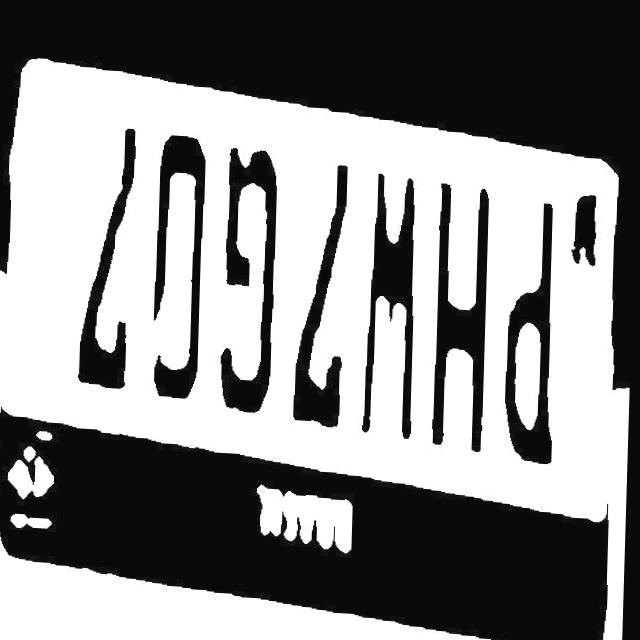0: (148, 128, 209, 409)
7: (76, 116, 151, 407), (289, 155, 358, 437)
g: (216, 132, 284, 433)
h: (423, 175, 502, 463)
p: (502, 188, 569, 470)
w: (357, 157, 435, 457)
